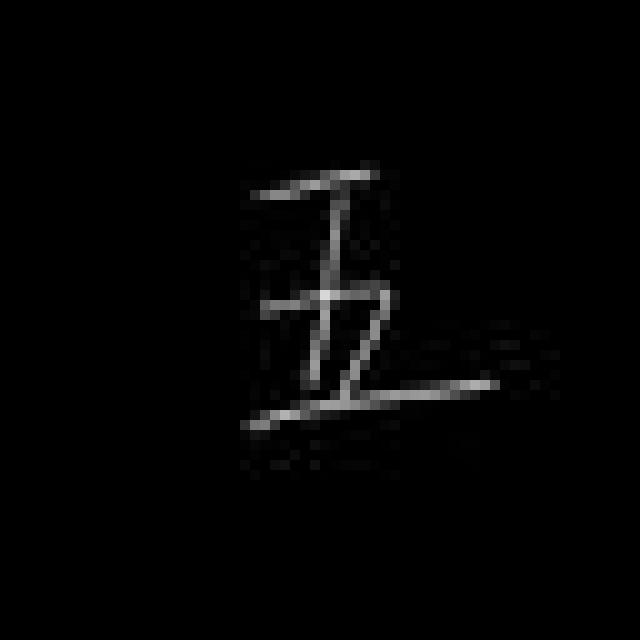5 -five-: (241, 153, 500, 447)
